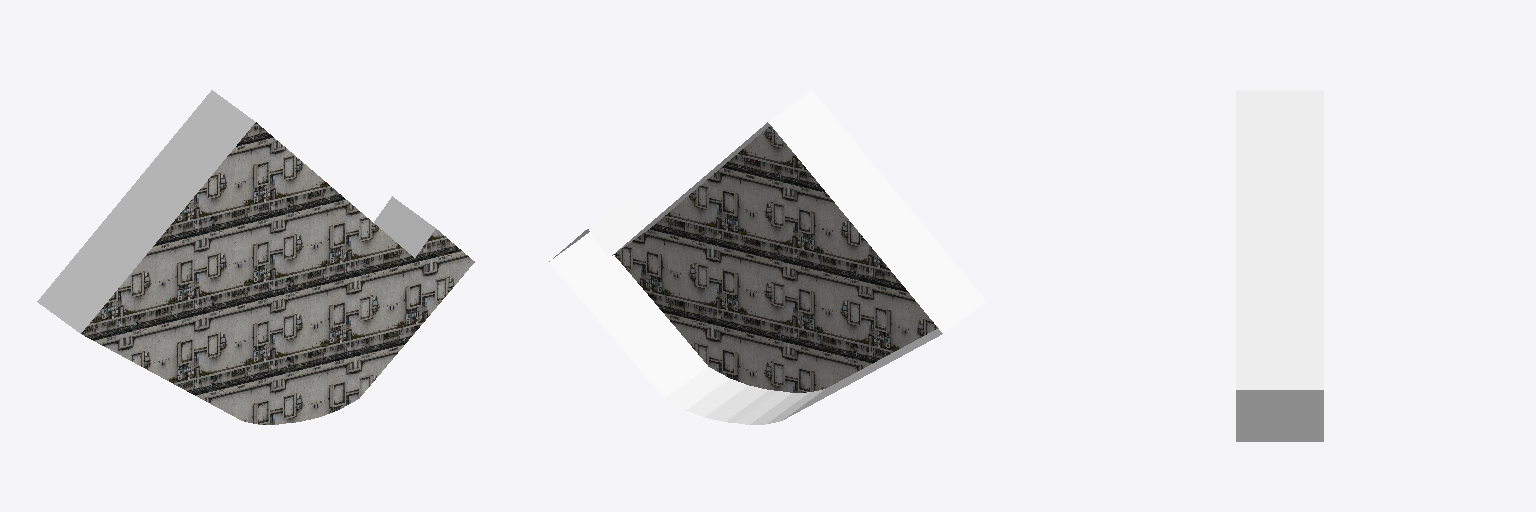
3 views of the same model, side by side, from view 1: azimuth 30°, elevation 25°; view 2: azimuth 150°, elevation 25°; view 3: azimuth 270°, elevation 25° (orthographic).
Visible parts, largest first — view 1: Building; view 2: Building; view 3: Building.
Part boxes in pixels (x1,y1,x2,y2): Building: (37, 90, 474, 424); Building: (549, 90, 986, 424); Building: (1236, 90, 1323, 441).
Size of the model in its own units: 62.16 by 46.86 by 12.
Materials: 2 (1 with a texture image).